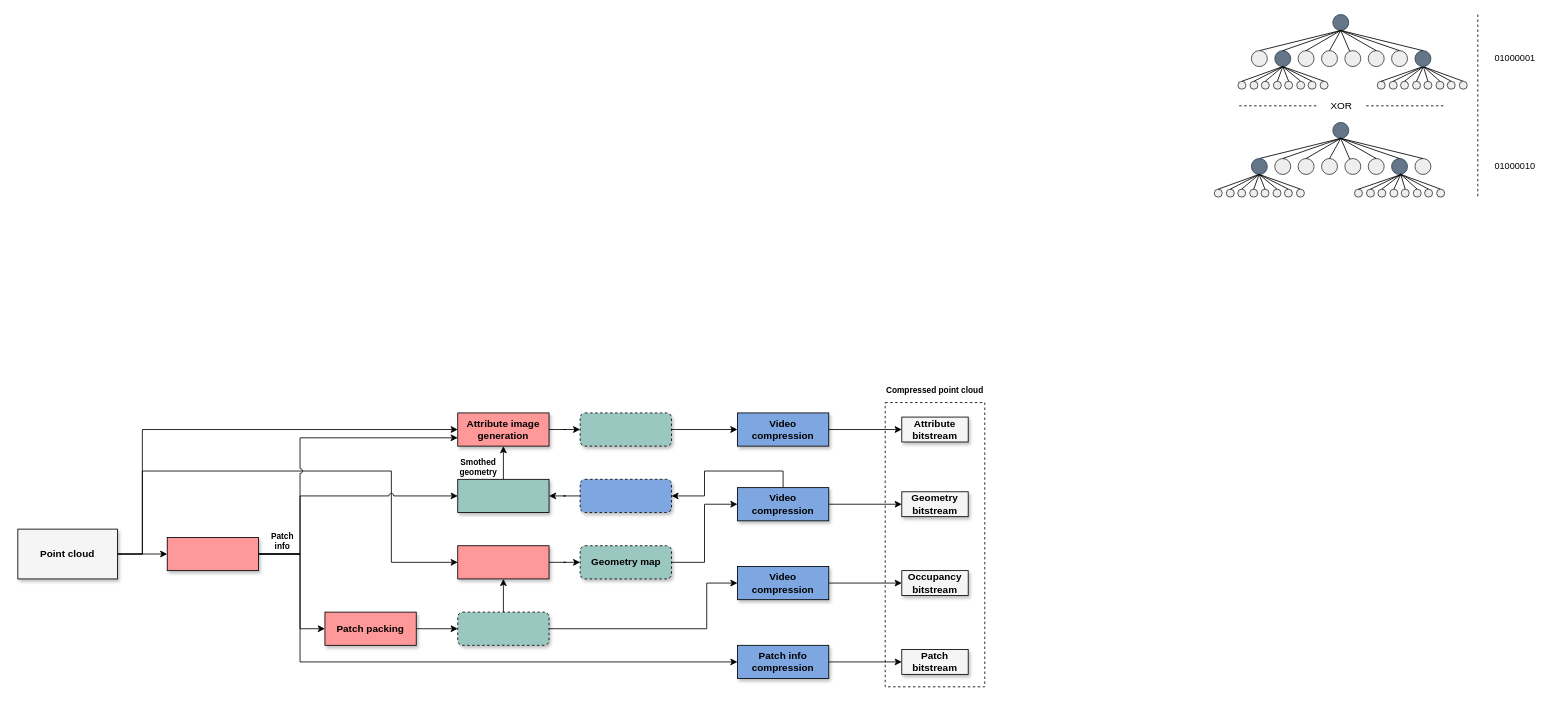
Some shapes in this 1555 by 701 pixel diagram are drawn without their labels. Here are the shapes that lost their labels. From the top down, the centre of each, then its label:
pixel 626 430: Attribute map
pixel 504 496: Smothing
pixel 626 496: Reconstructed geometry map
pixel 213 554: 3D to 2D Patch generation
pixel 504 563: Geometry image generation
pixel 504 629: Occupancy map
